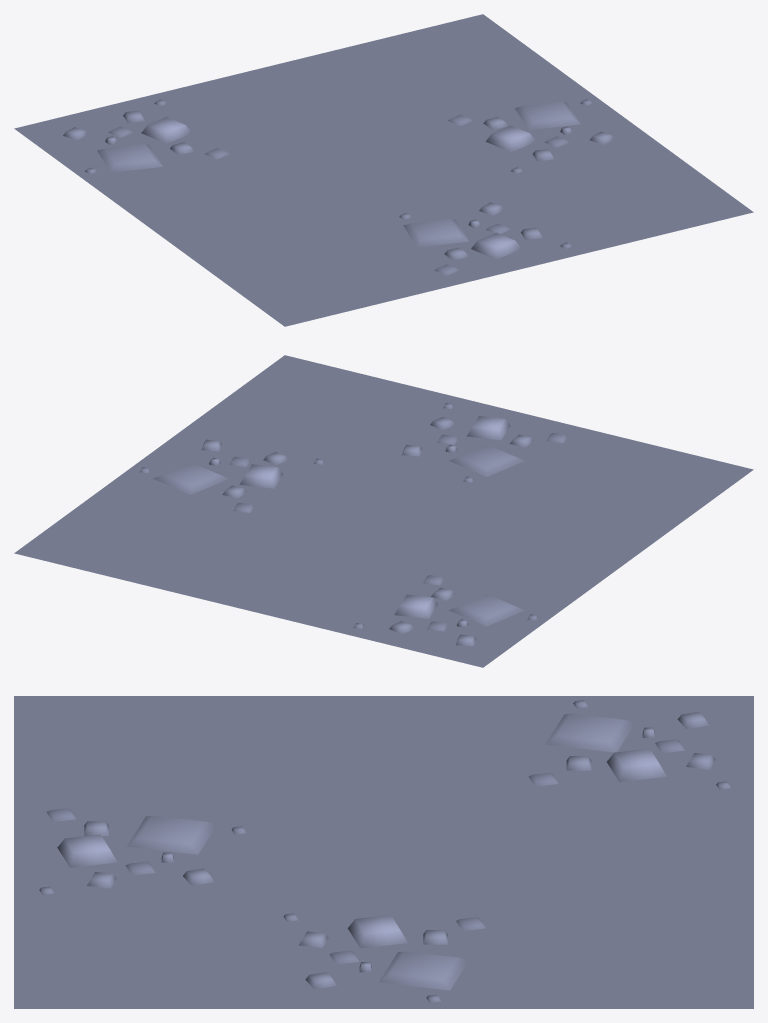
File: 3x3-floor-detail.glb
3 views of the same model, one above another, from view 1: azimuth 30°, elevation 25°; view 2: azimuth 150°, elevation 25°; view 3: azimuth 270°, elevation 25° (orthographic). The views are drawn at different scales.
Visible parts, largest first — view 1: floor-detail.002; view 2: floor-detail.002; view 3: floor-detail.002.
Boxes of the visible parts, x1,y1,x2,y2 form: floor-detail.002: [14, 14, 753, 326]; floor-detail.002: [14, 355, 753, 667]; floor-detail.002: [14, 696, 753, 1008].
Size of the model in its own units: 3 by 0.05 by 3.
Materials: 9 (9 with a texture image).
